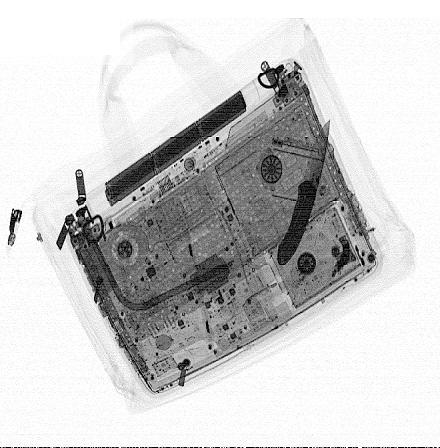Knife: (275, 115, 332, 268)
